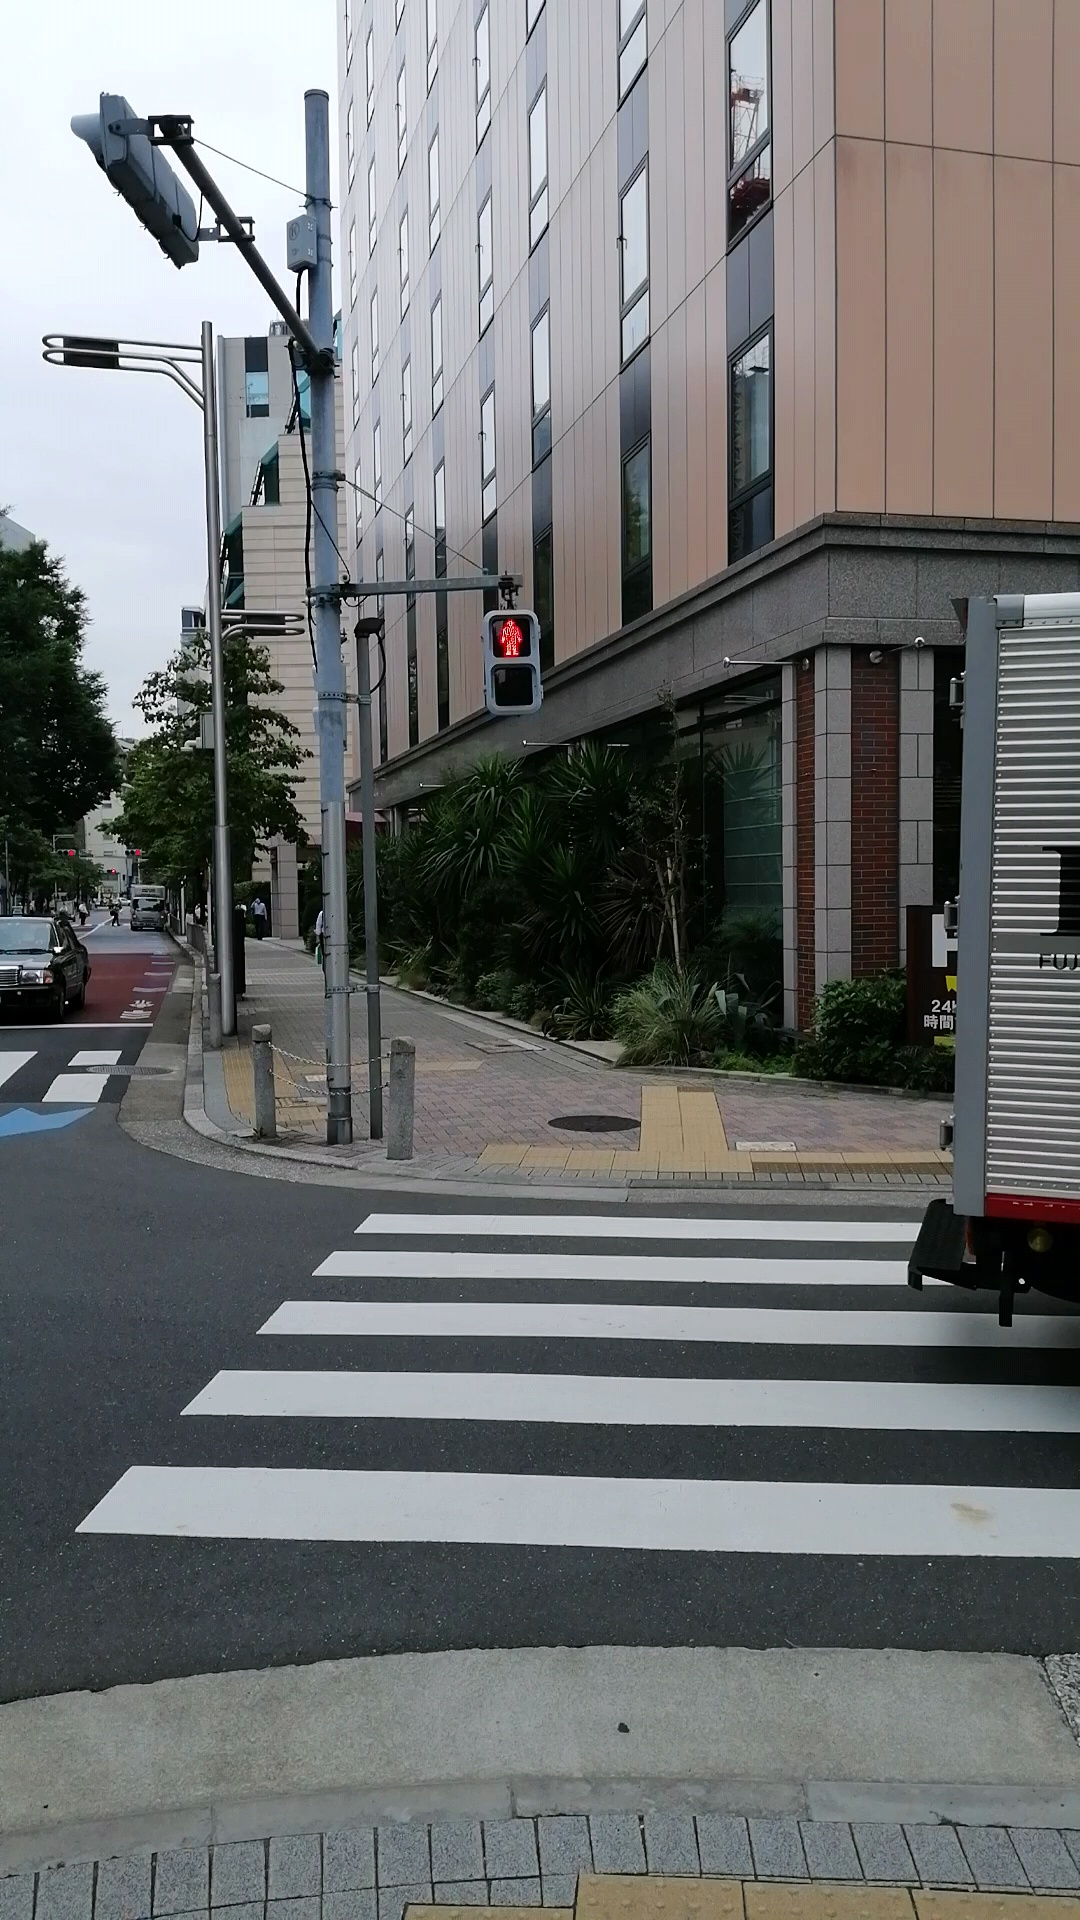red: (484, 608, 542, 713)
